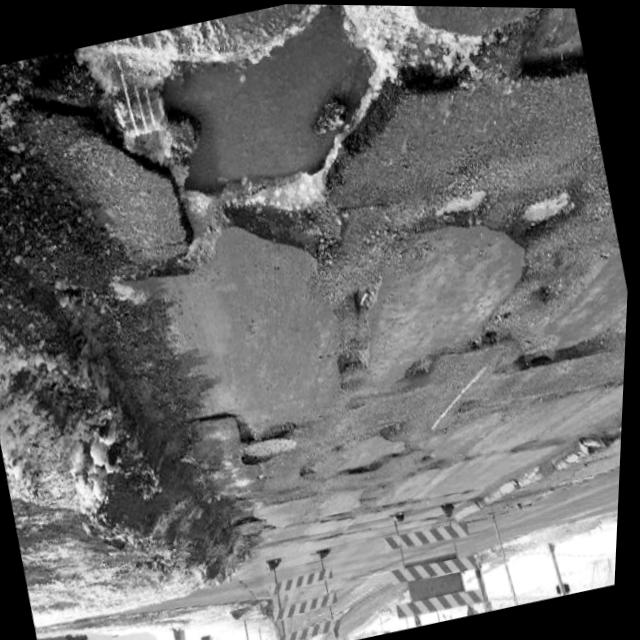pathole: (165, 4, 630, 582), (224, 4, 550, 211), (78, 3, 323, 219), (162, 4, 372, 192), (435, 150, 583, 275), (515, 314, 629, 389), (323, 249, 392, 337), (340, 321, 377, 400), (466, 310, 522, 356), (243, 424, 300, 455), (525, 189, 570, 220), (402, 355, 440, 390), (439, 188, 488, 215), (549, 240, 566, 278), (346, 460, 386, 475), (354, 291, 364, 319), (246, 454, 264, 463)
